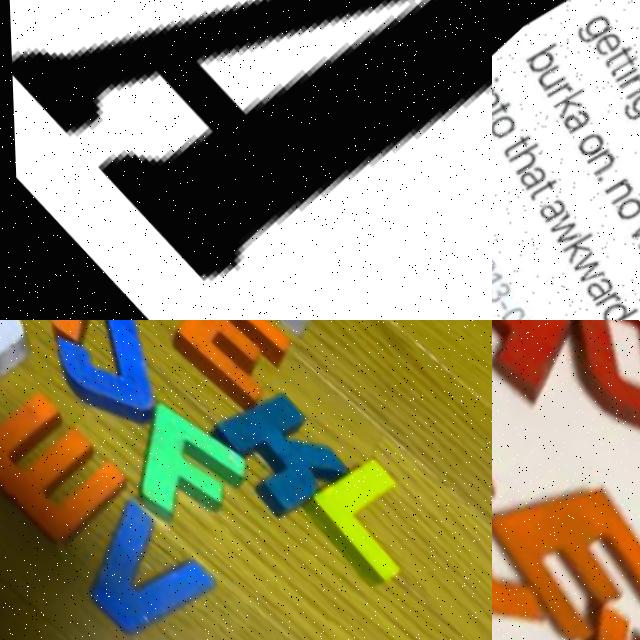0: (492, 297, 527, 320)
1: (492, 264, 502, 294), (500, 312, 531, 320)
3: (492, 274, 512, 308)
A: (0, 0, 492, 320), (492, 320, 616, 418)
E: (492, 453, 640, 640), (157, 320, 306, 420)
F: (92, 372, 258, 541)
I: (492, 386, 592, 640)
J: (34, 320, 196, 445)
K: (195, 373, 359, 540)
L: (295, 451, 448, 606)
O: (522, 320, 640, 464)
V: (50, 493, 217, 640)
W: (0, 376, 134, 558)
